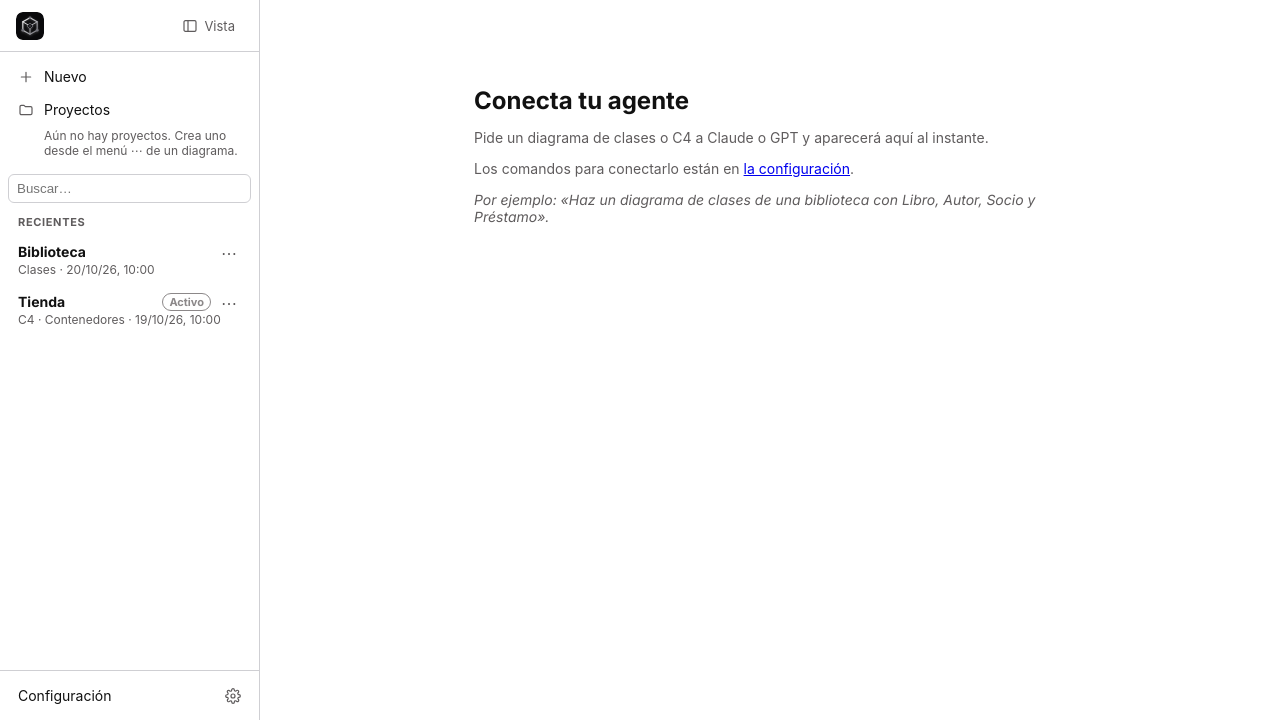
it: AppShell › "Eliminar…" pide confirmación: Cancelar no borra y Eliminar sí
The image size is (1280, 720).
Click the button named "Opciones de Biblioteca".
click(229, 253)  # box [213,241,245,265]
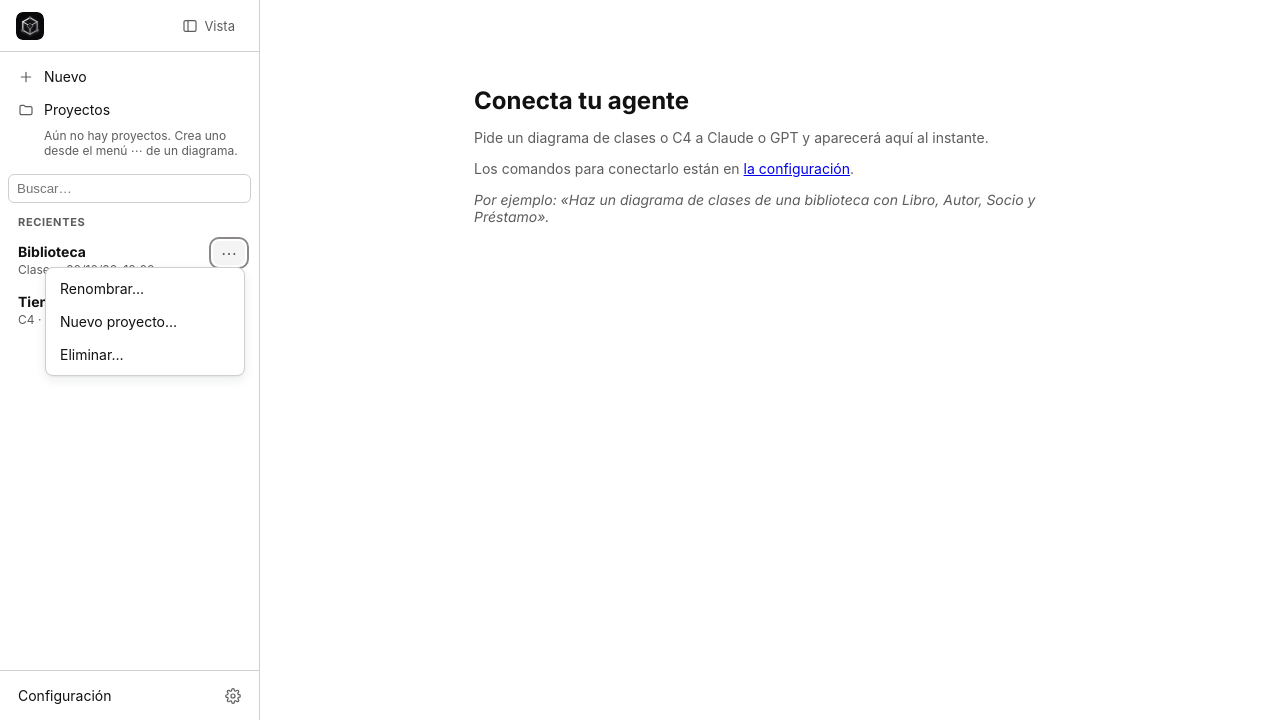
Click the menu item "Eliminar…".
click(145, 354)  # box [50,338,240,371]
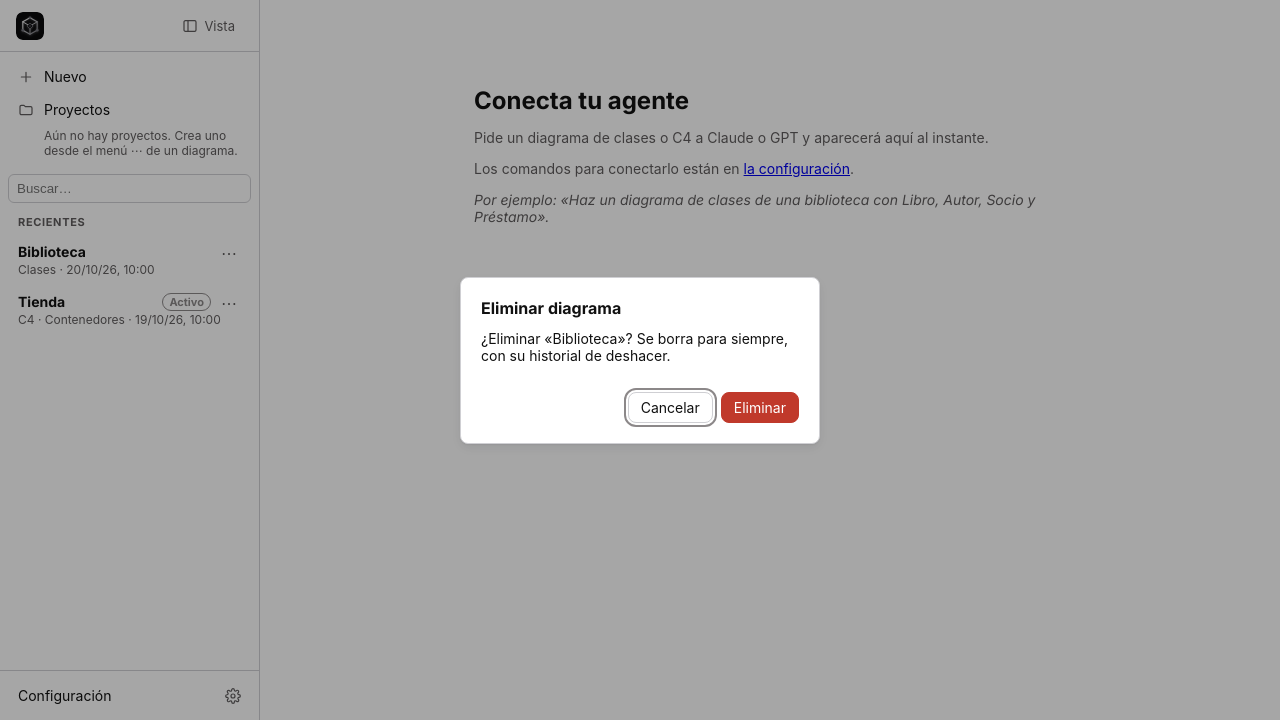
Expected: the text "¿Eliminar «Biblioteca»?" is shown, [481,330,788,364]
Click the button "Cancelar".
click(670, 407)  # box [628,392,713,422]
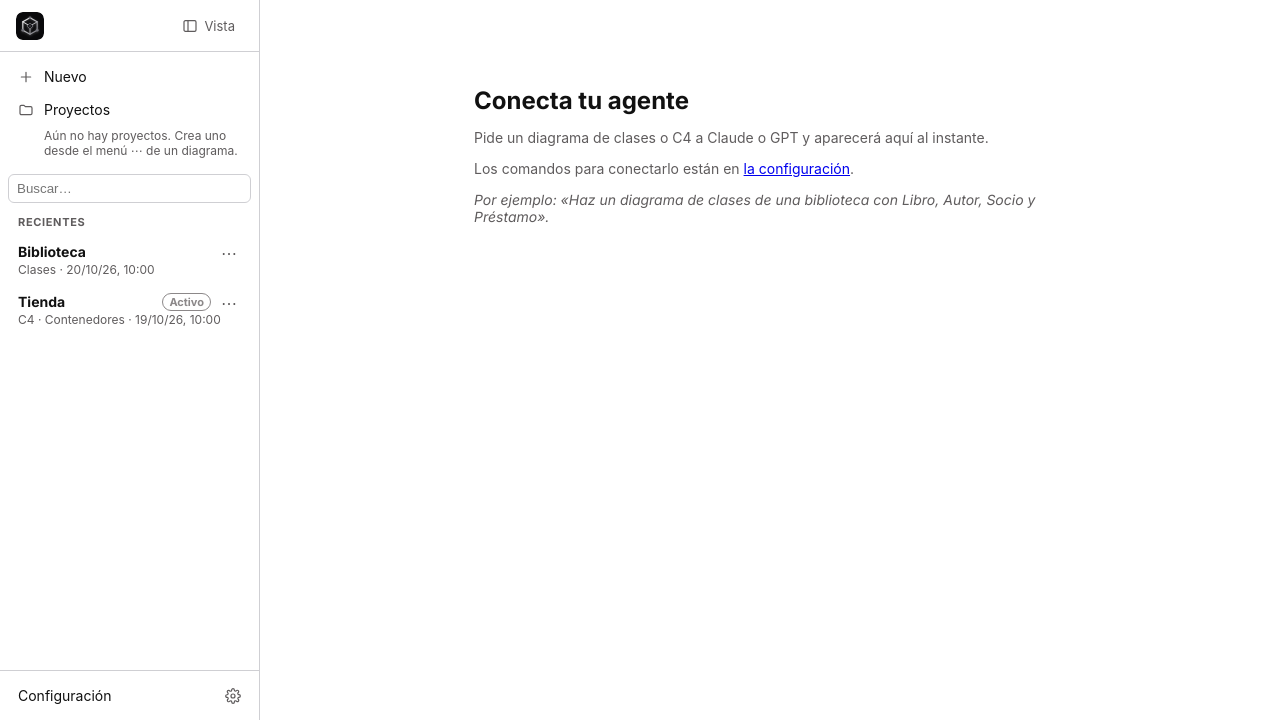
Expected: the dialog is gone
Click the button named "Opciones de Biblioteca".
click(229, 253)  # box [213,241,245,265]
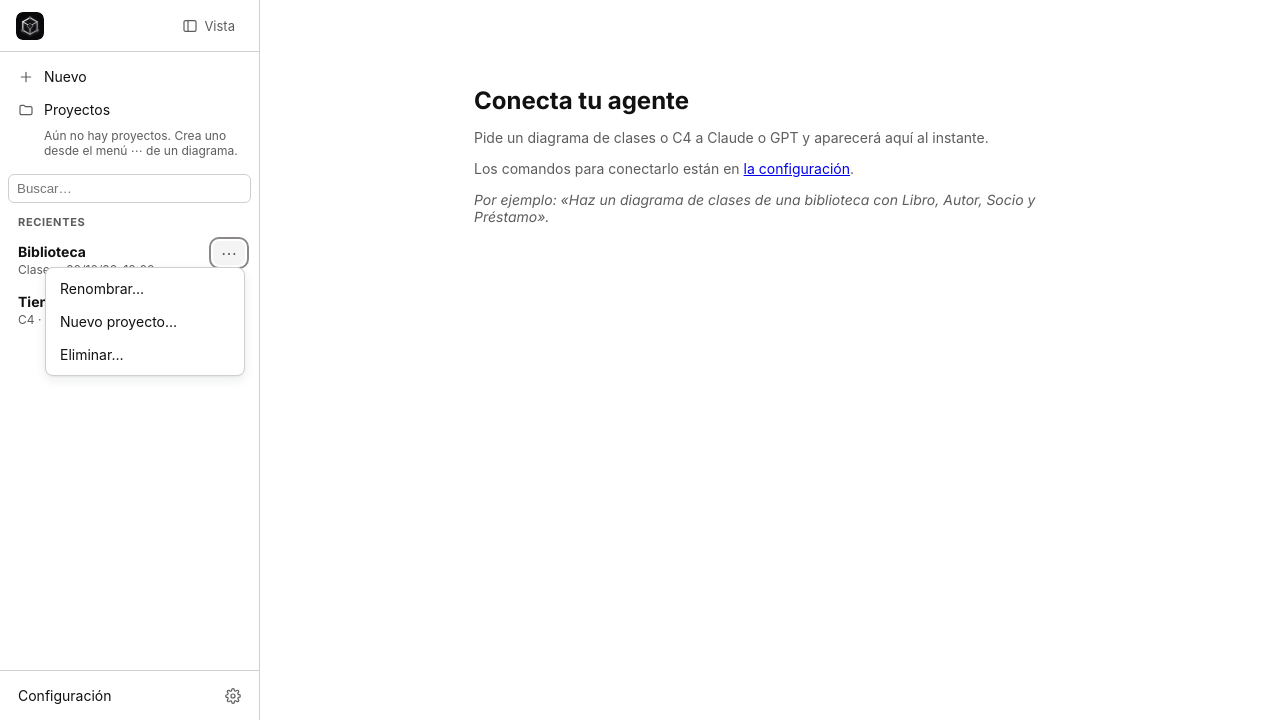
Click the menu item "Eliminar…".
click(145, 354)  # box [50,338,240,371]
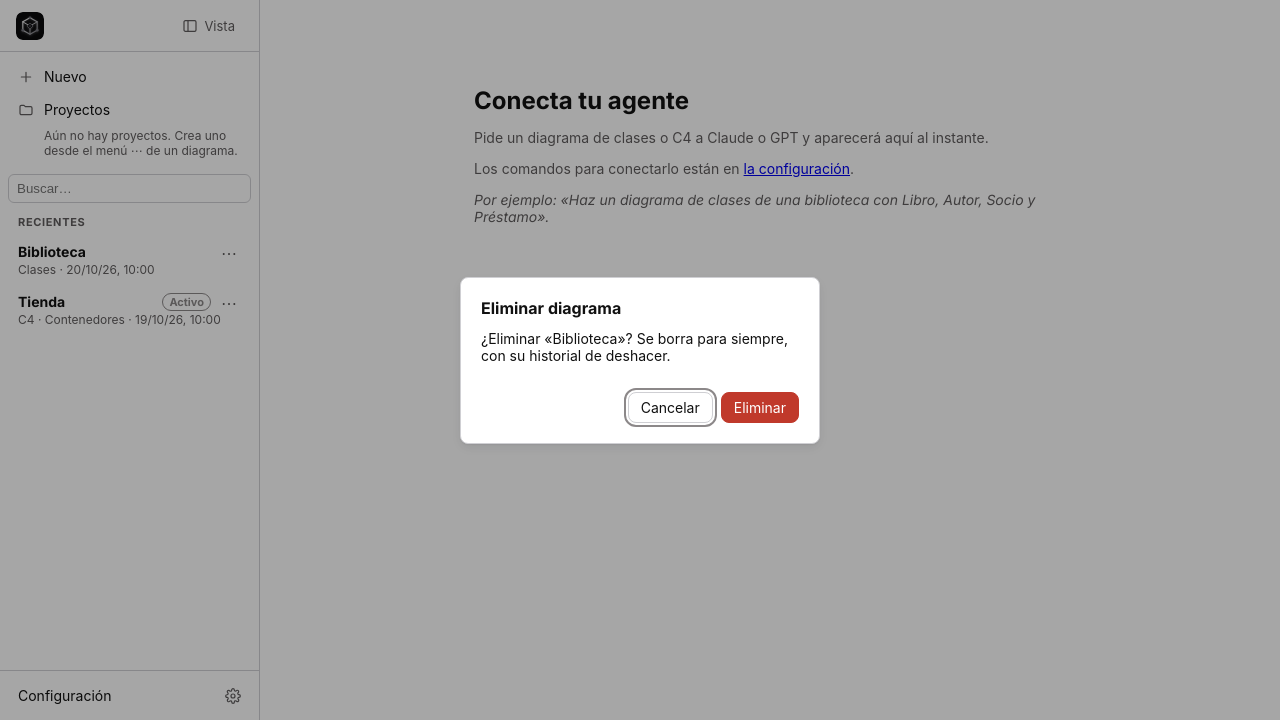
Click the button "Eliminar".
click(760, 407)  # box [721,392,799,422]
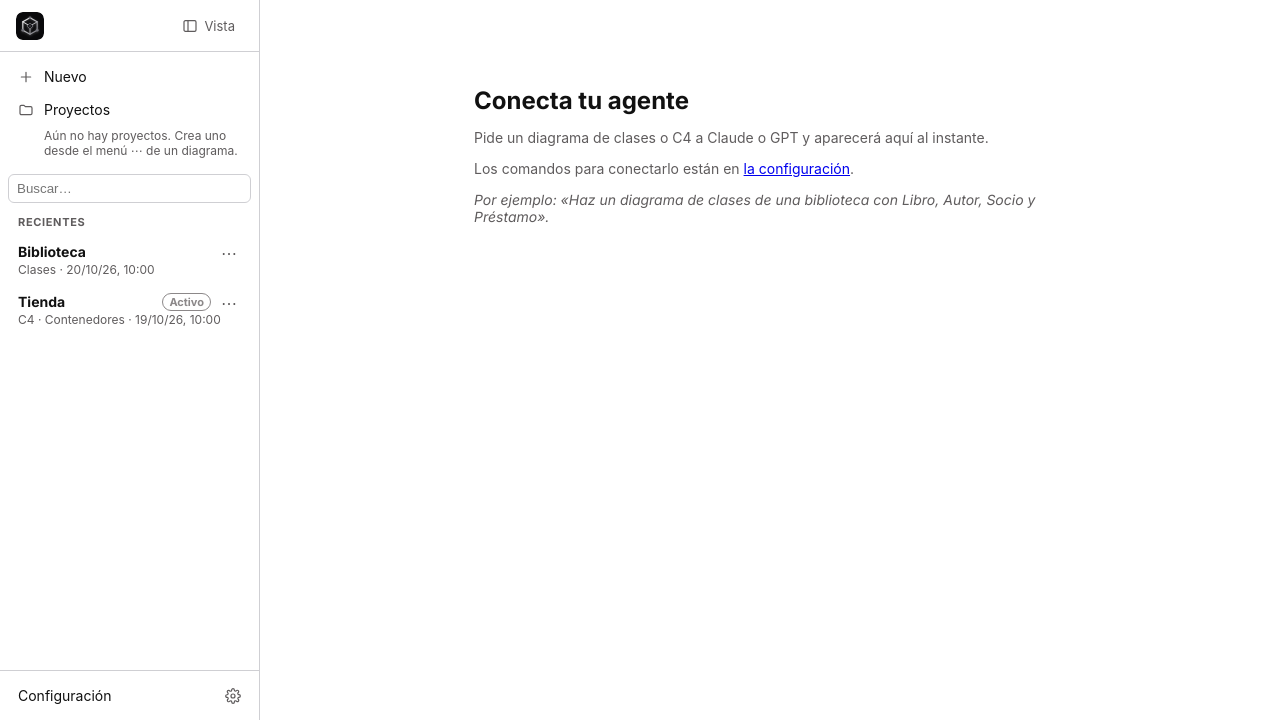
Expected: the dialog is gone
